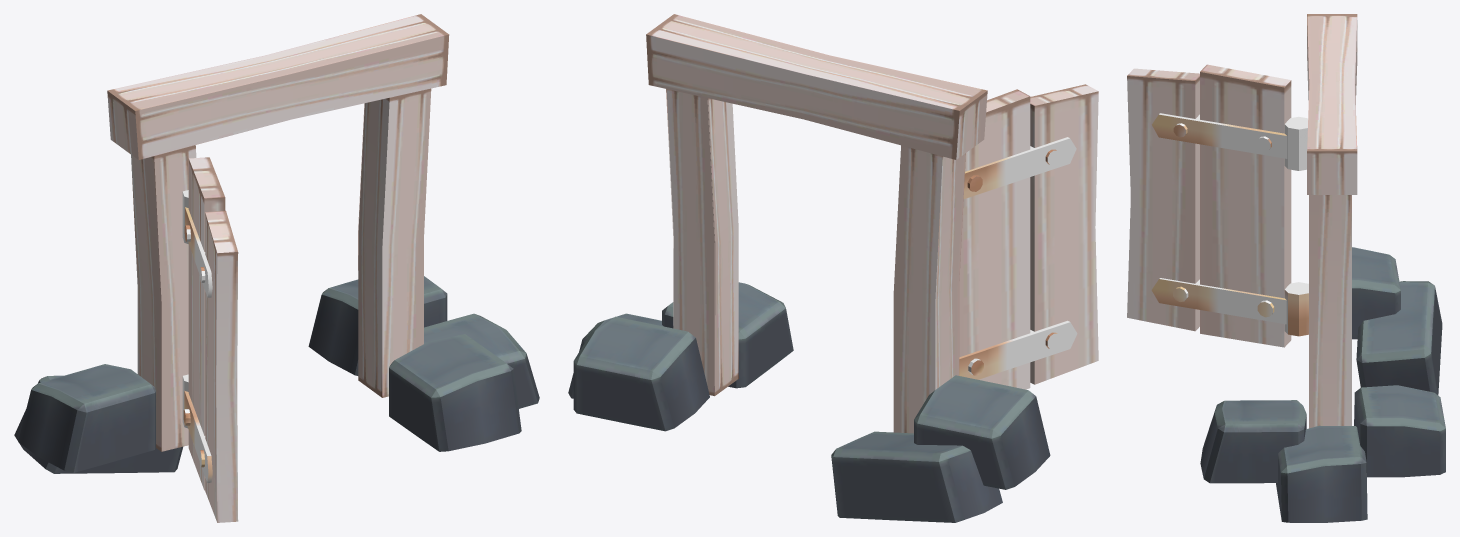
File: ruins_1.fbx
3 views of the same model, side by side, from view 1: azimuth 30°, elevation 25°; view 2: azimuth 150°, elevation 25°; view 3: azimuth 270°, elevation 25° (orthographic). The views are drawn at different scales.
Visible parts, largest first — view 1: building; view 2: building; view 3: building.
Boxes of the visible parts, x1,y1,x2,y2 form: building: (14, 14, 539, 522); building: (568, 14, 1098, 522); building: (1127, 14, 1445, 522).
Bounding box in the file's own units: 2.31 × 1.9 × 1.52.
Materials: 2 (2 with a texture image).
